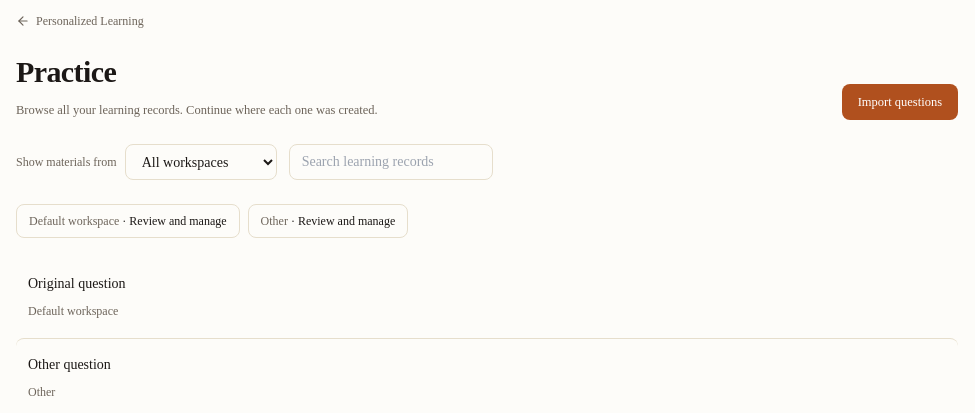
Test: keeps equal practice IDs in separate workspaces and filters without changing write scope
Select "Other" in the dropdown named "Filter by workspace": (201, 162) [125, 144, 277, 180]
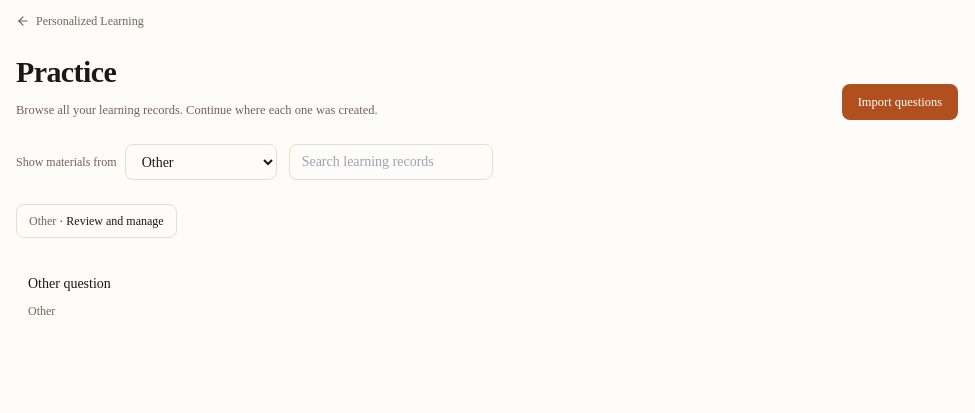
Expected: the link "Other question Other" is shown, [28, 276, 111, 318]
Now the link "Original question" is gone
